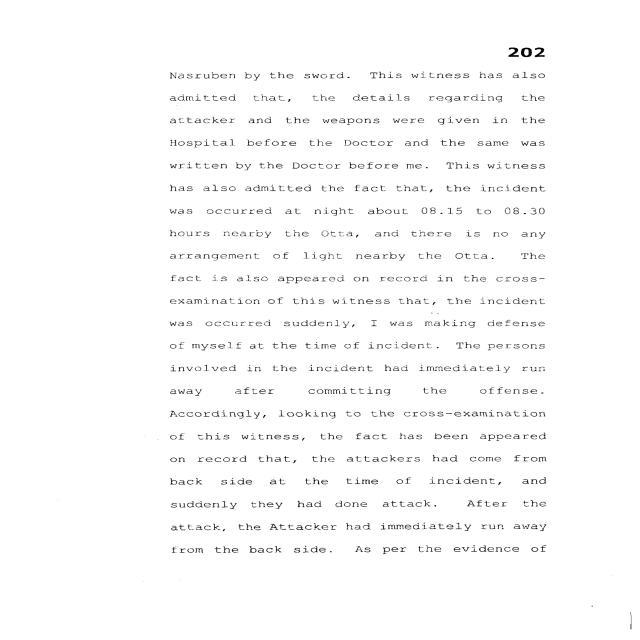page-number: (426, 0, 632, 64)
